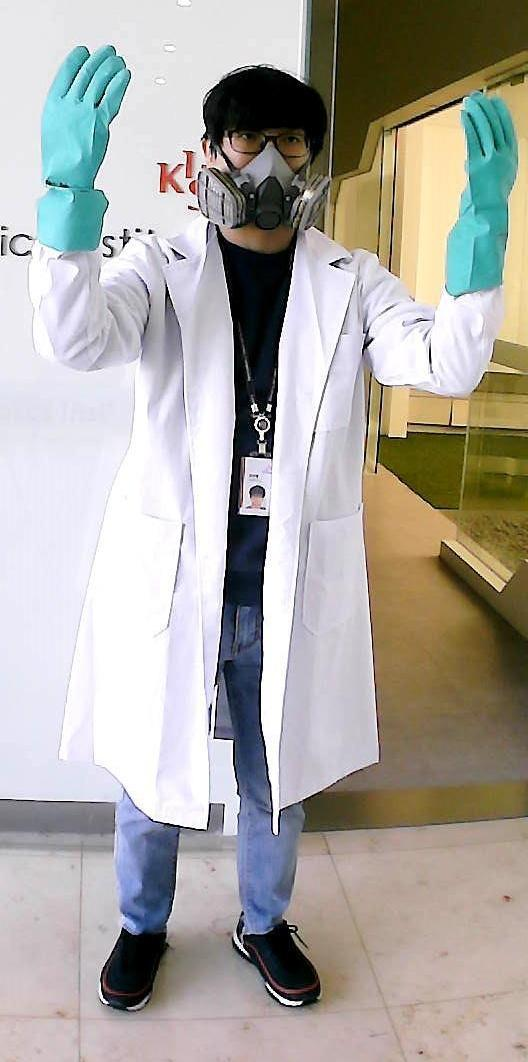lab_coat: (87, 242, 392, 799)
